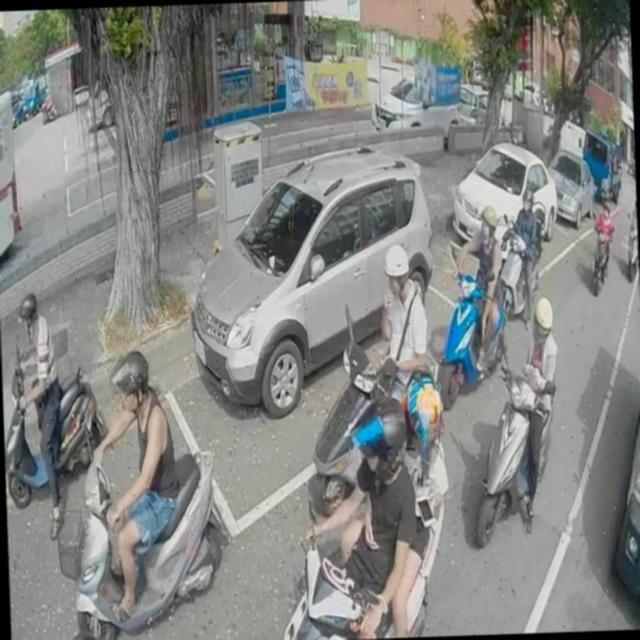person: (336, 371, 448, 638), (292, 400, 415, 640), (84, 340, 182, 628), (8, 286, 70, 530), (506, 288, 561, 536), (373, 239, 432, 407), (452, 197, 503, 372), (512, 184, 549, 320), (590, 202, 618, 280), (63, 616, 108, 640), (626, 195, 638, 262), (42, 87, 54, 116)
